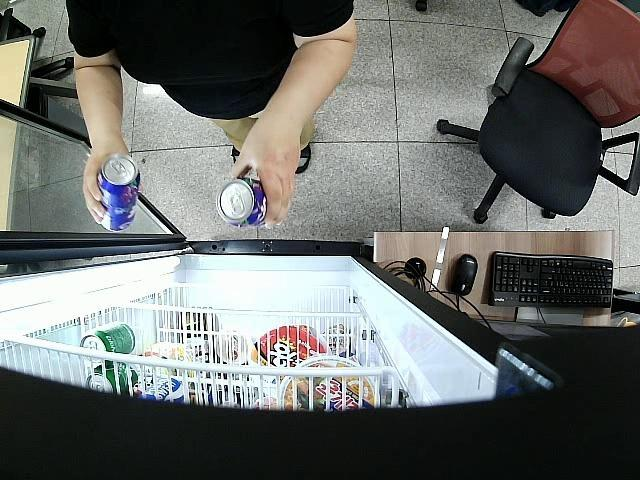14_welchsGrape: (98, 155, 138, 232), (217, 177, 268, 228)
